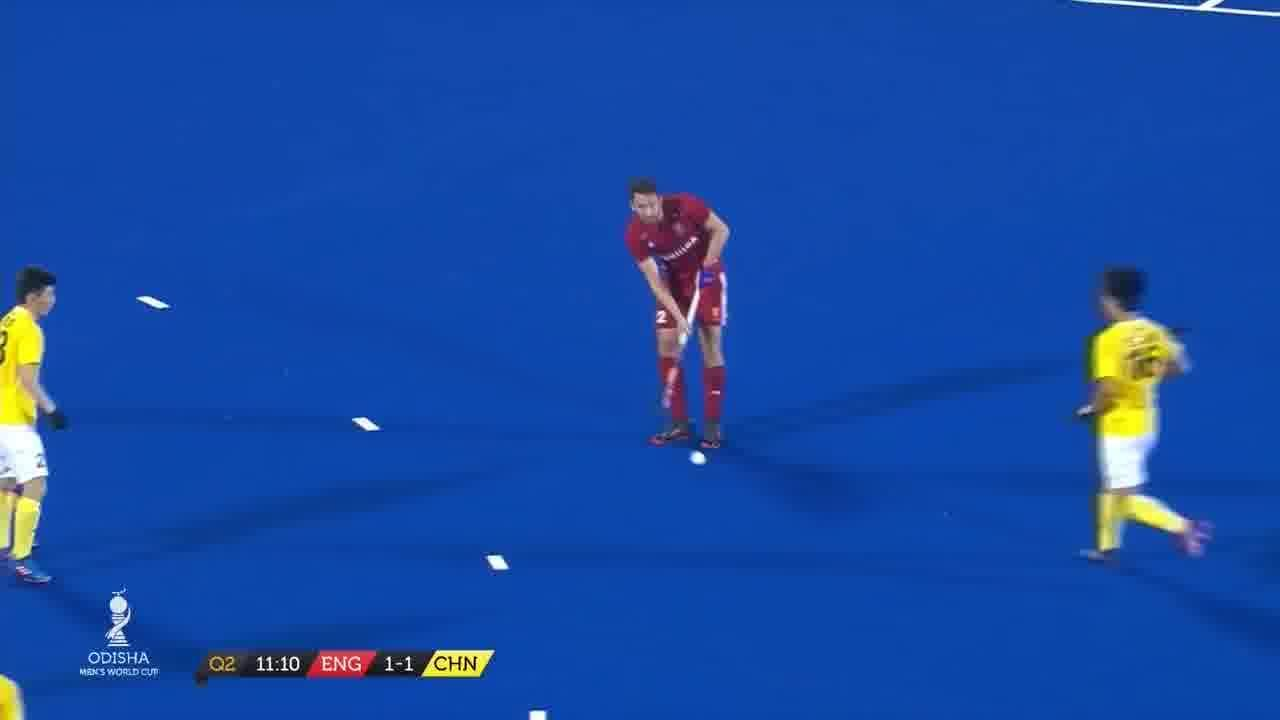ball: (685, 452, 713, 471)
